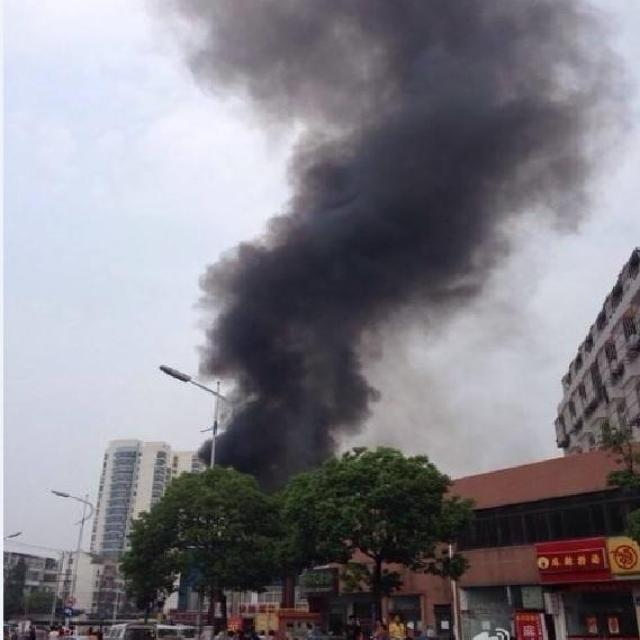Smoke: (147, 1, 640, 492)
